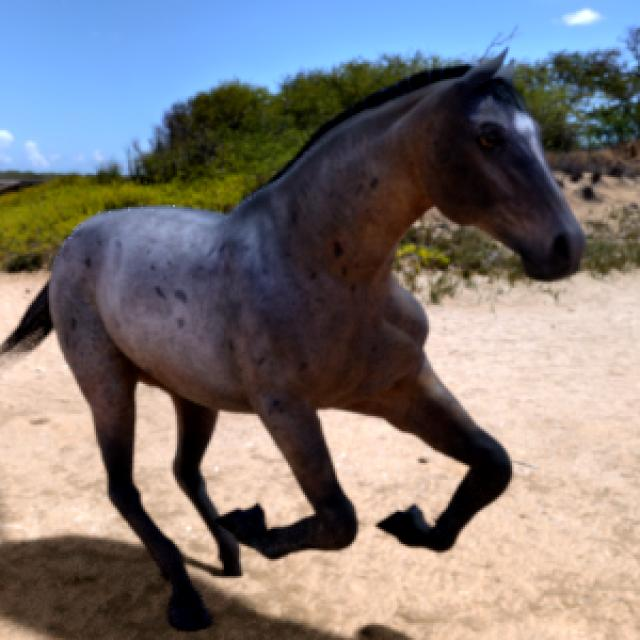horse: (2, 54, 584, 629)
